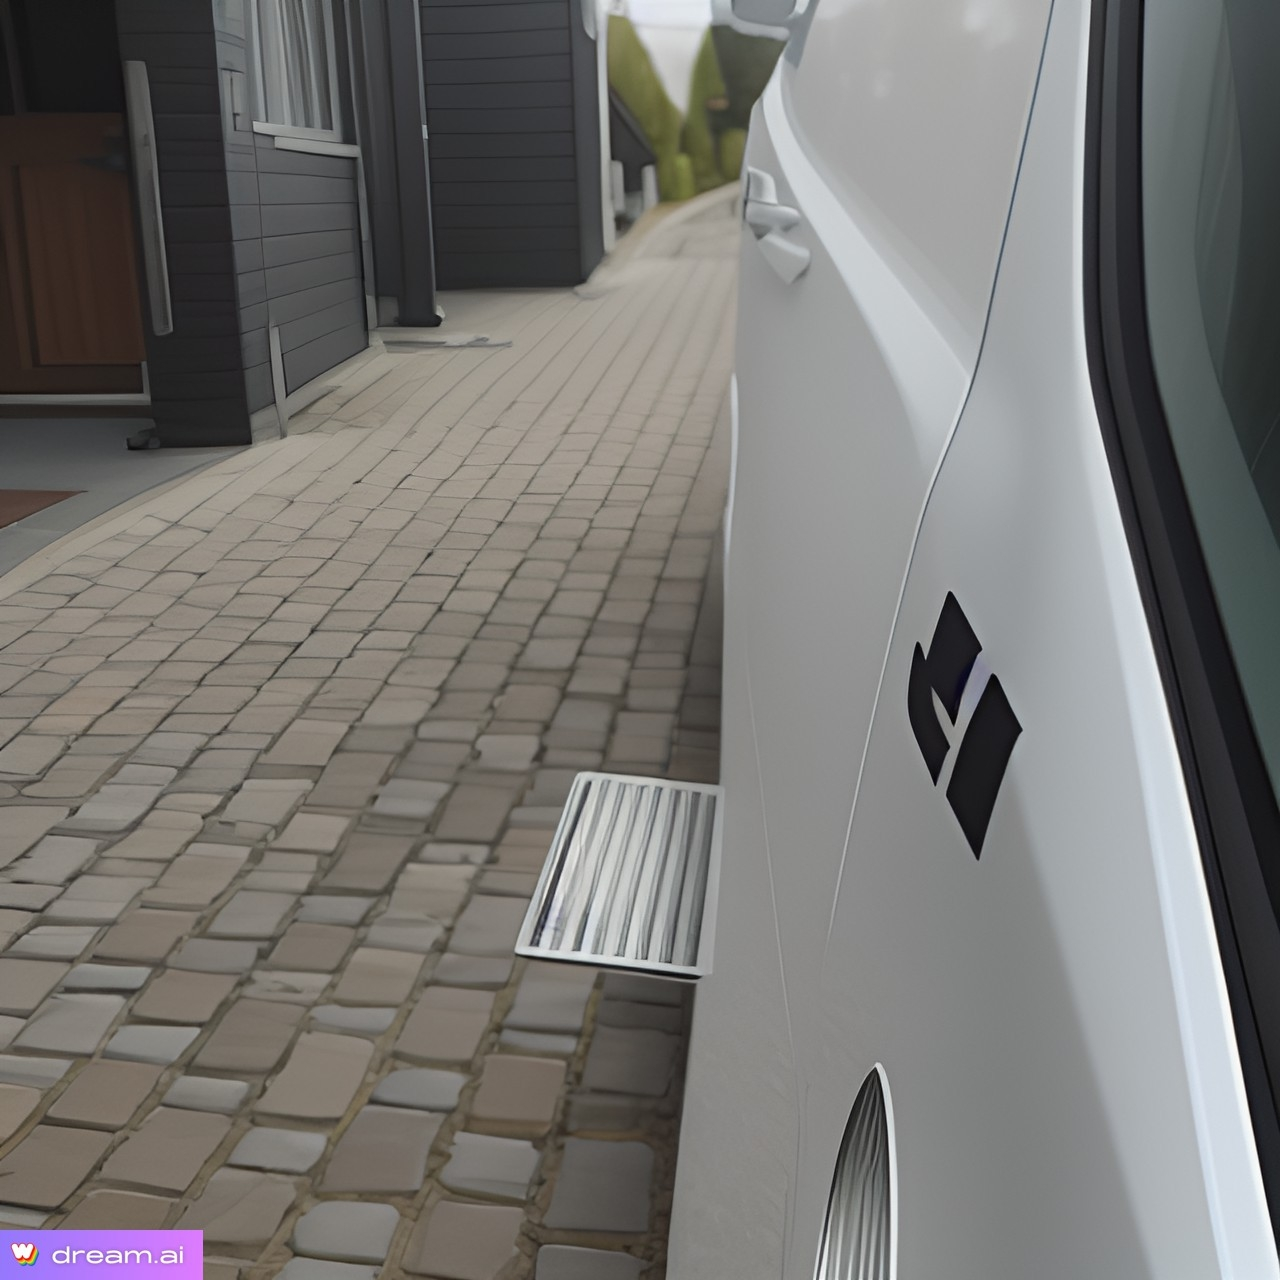step_front: (509, 738, 747, 1009)
